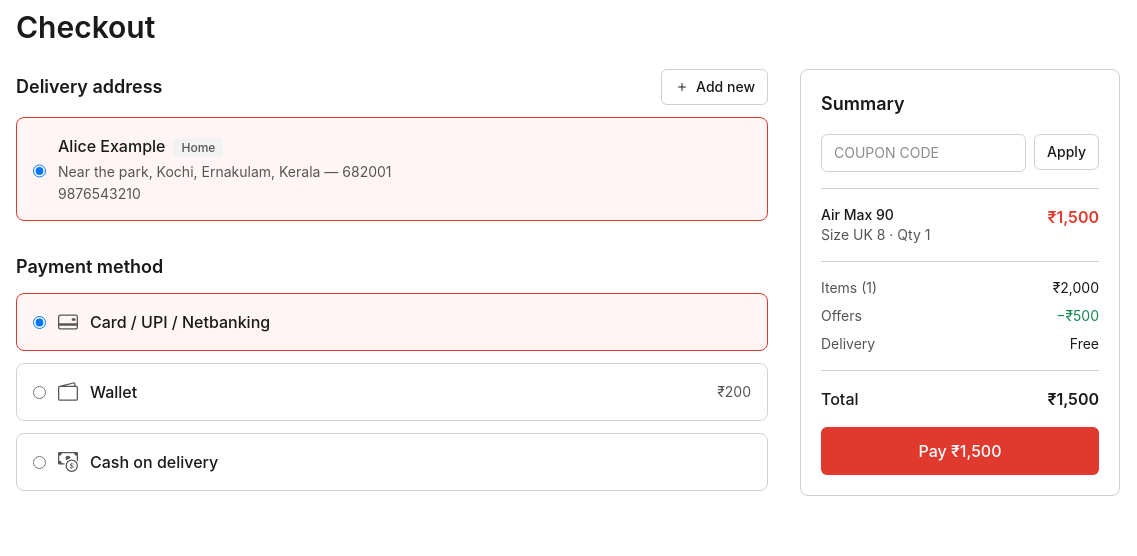
Test: CheckoutPage › refuses a wallet payment when the balance is short, and says by how much
Click the radio button labelled "Wallet ₹200". click: (40, 392)
box: x1=33 y1=386 x2=46 y2=398
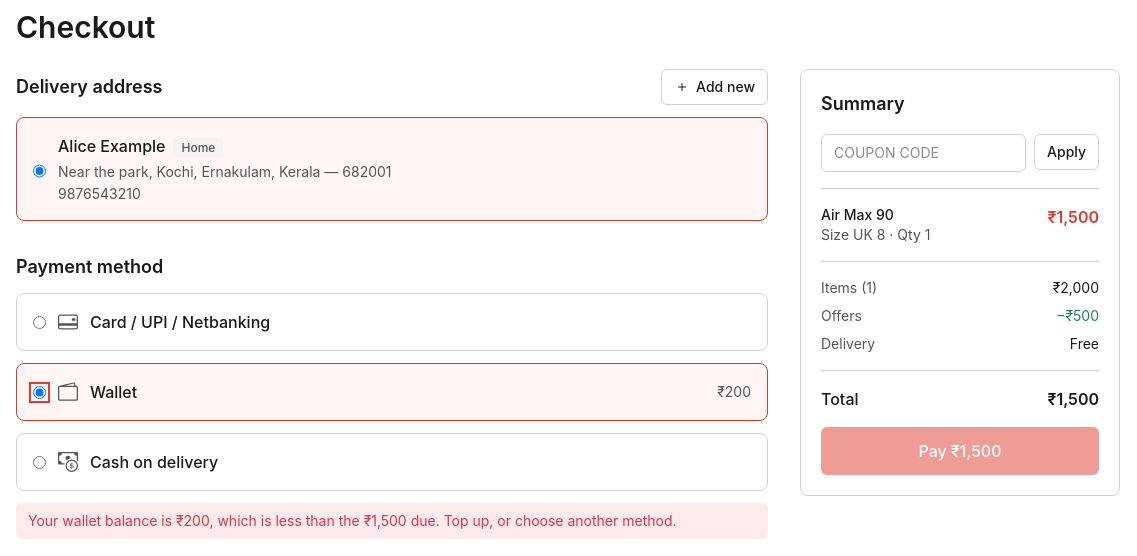
Check: the message shows "wallet balance is ₹200", box x1=16 y1=503 x2=768 y2=539
Check: the button "Pay ₹1,500" is disabled, box x1=821 y1=427 x2=1099 y2=475
